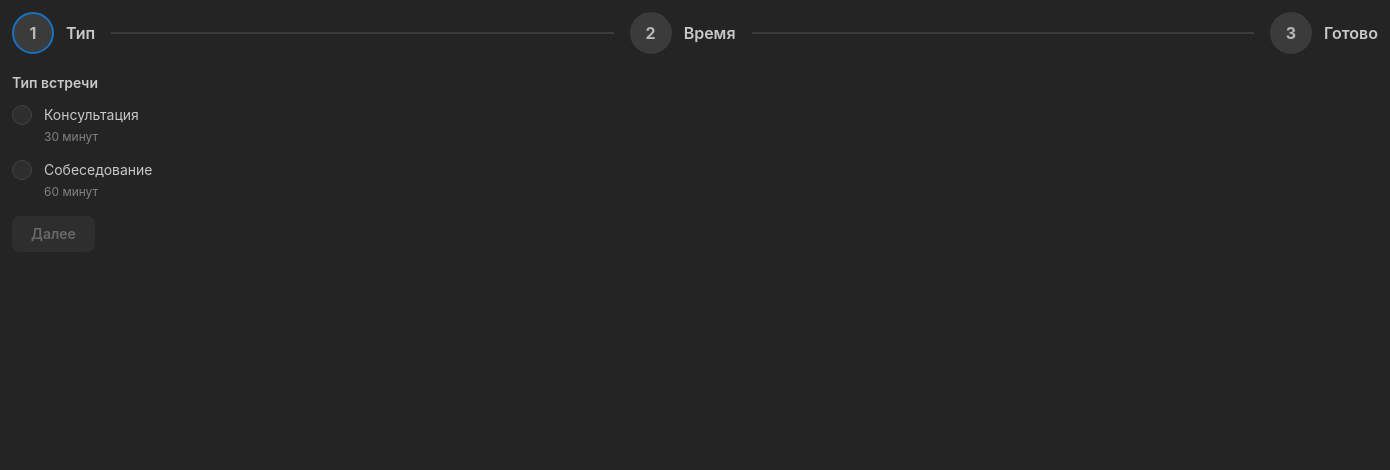
Test: гостевой вид › в дне не осталось свободных слотов — день выключен в календаре
Click the radio button labelled "Консультация".
click(22, 115)  # box x1=12 y1=105 x2=32 y2=125
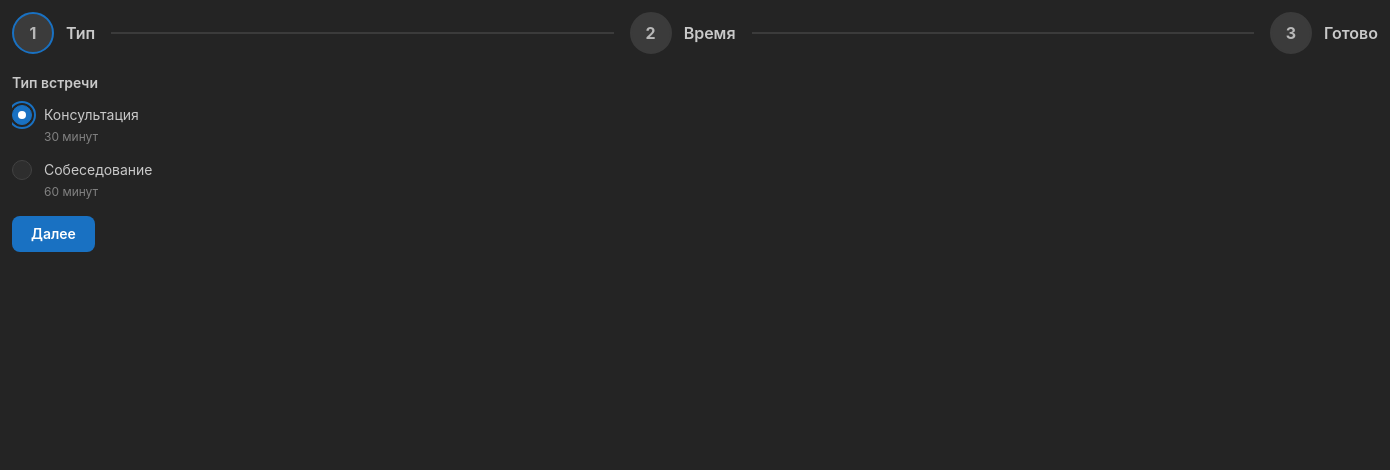
Click the button "Далее".
click(53, 234)  # box x1=12 y1=216 x2=95 y2=252
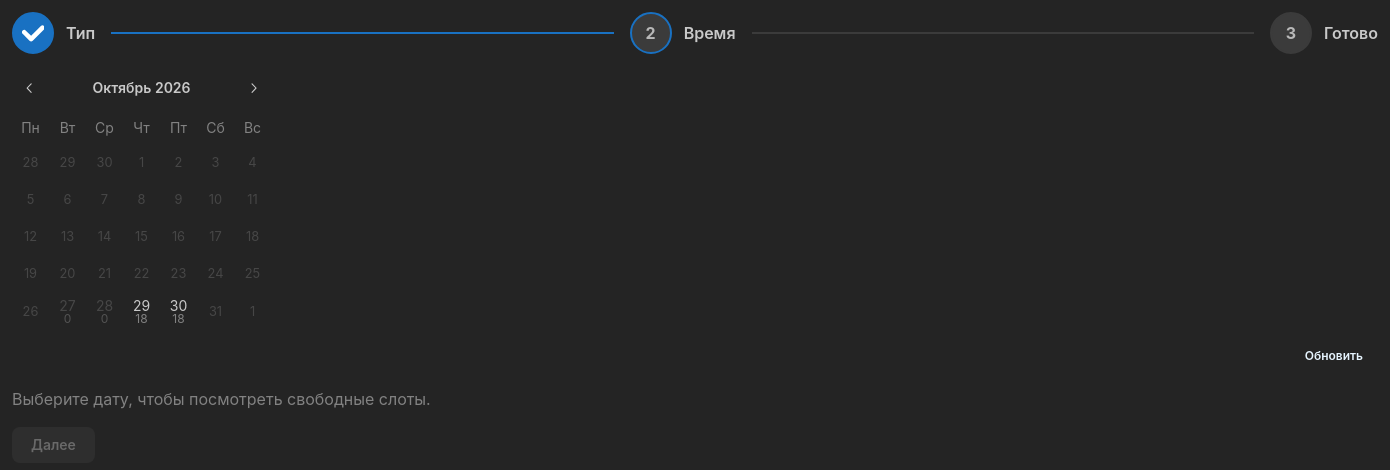
Now the button "28 0" is disabled, box x1=86 y1=294 x2=122 y2=330
